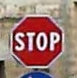stop: (8, 12, 66, 70)
